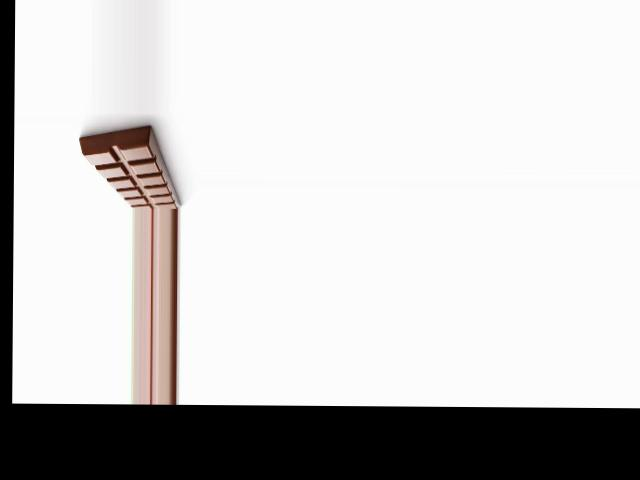chocolate: (78, 122, 187, 208)
